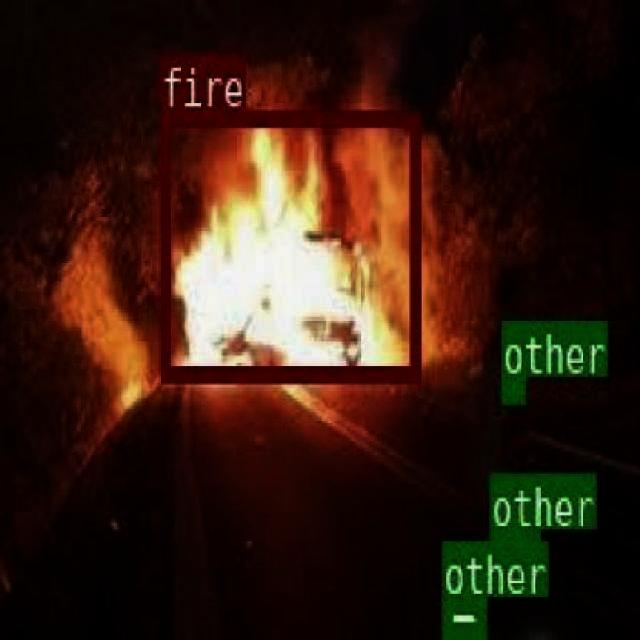fire: (158, 108, 418, 378)
